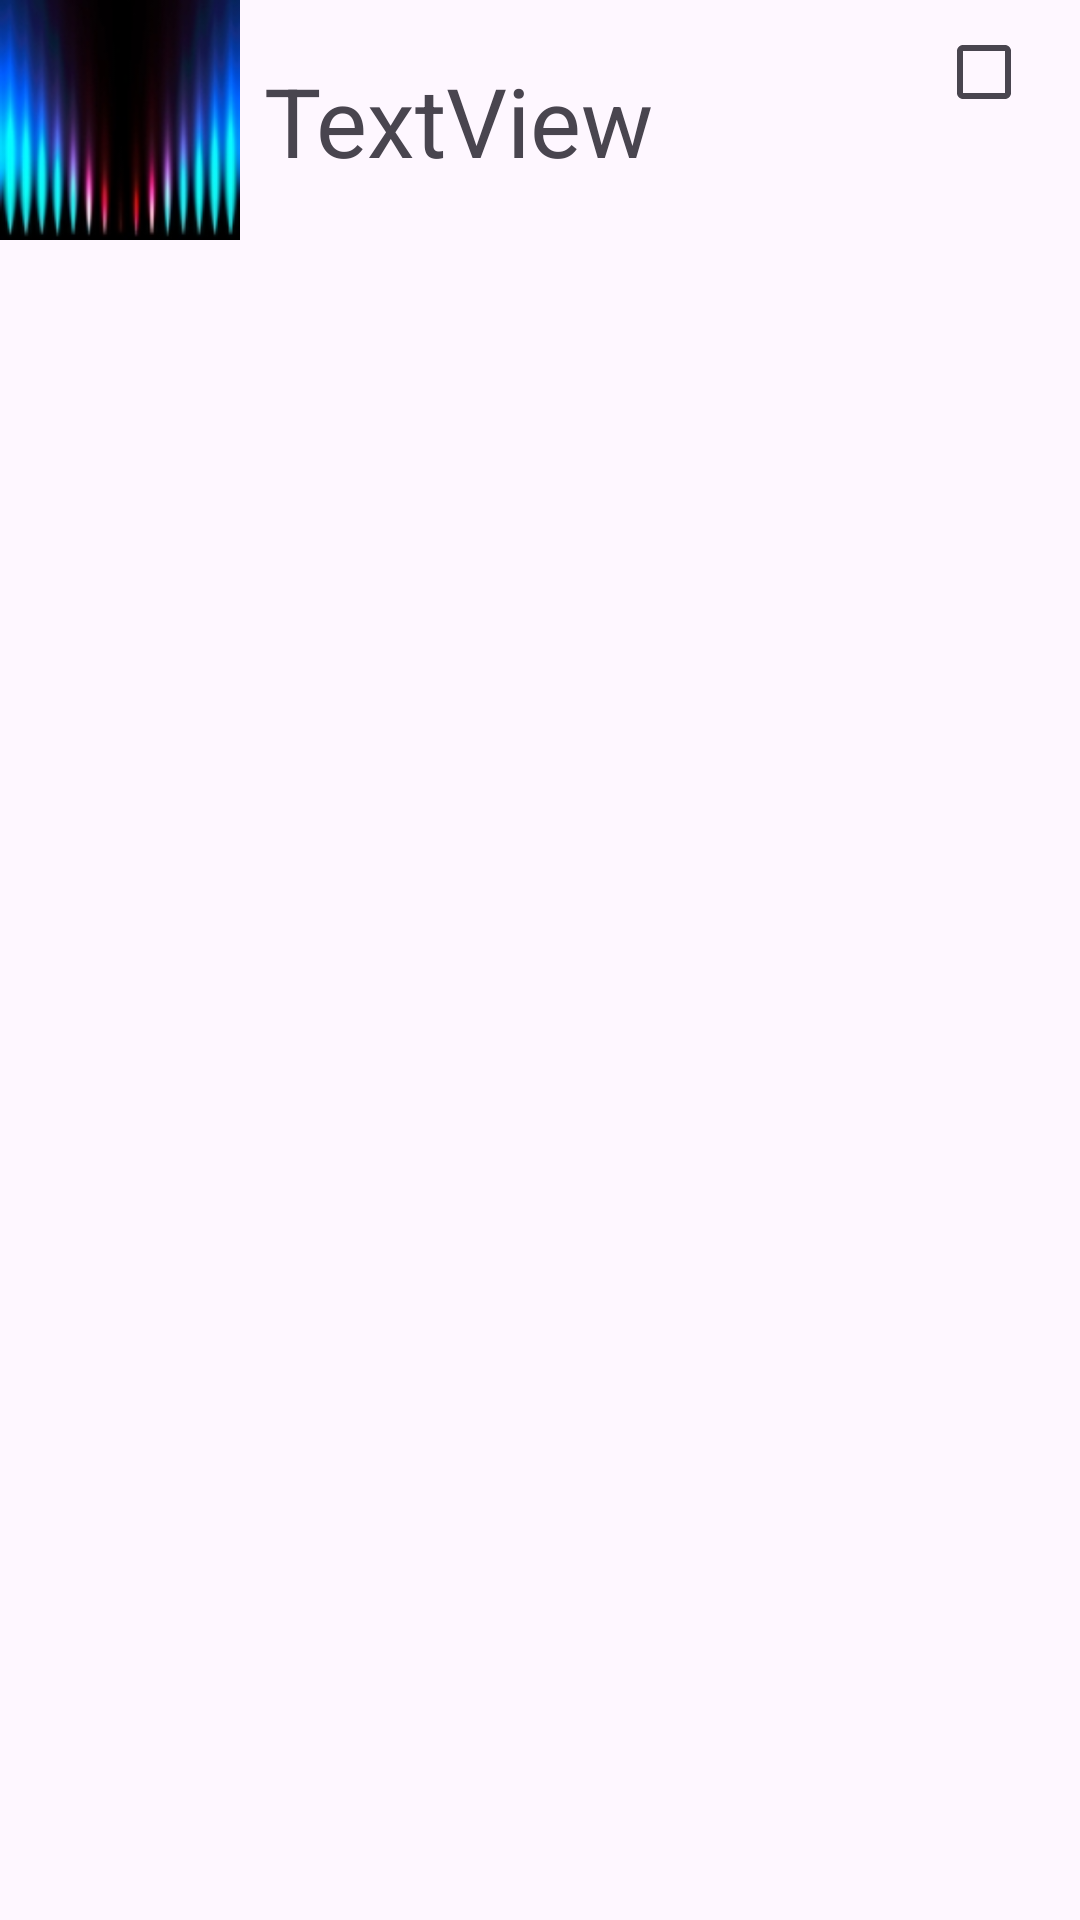

Icons on this 1080 x 1920 Android screen, each with the point to tap as (x=x, y=y):
thumb: (x=120, y=120)
